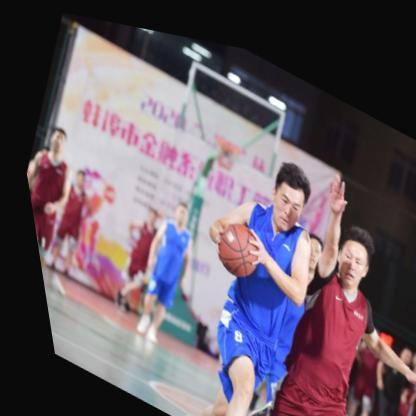basketball: (202, 206, 255, 276)
